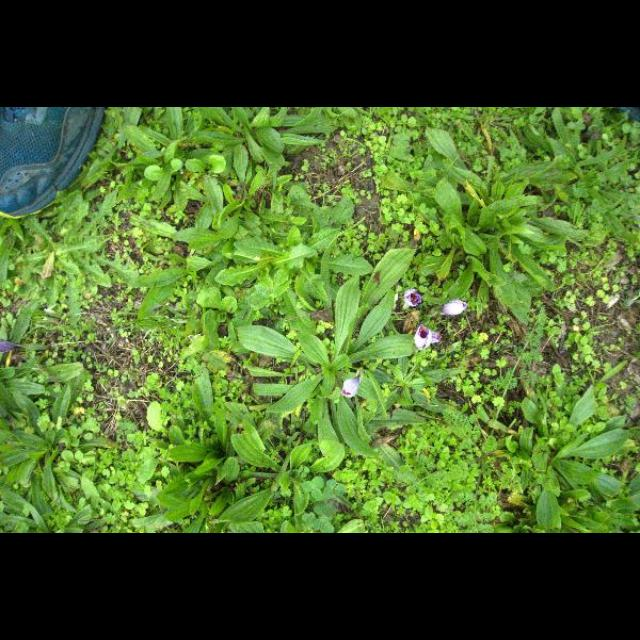flower: (413, 325, 432, 351), (440, 300, 468, 316), (342, 376, 361, 398), (404, 288, 422, 308)
